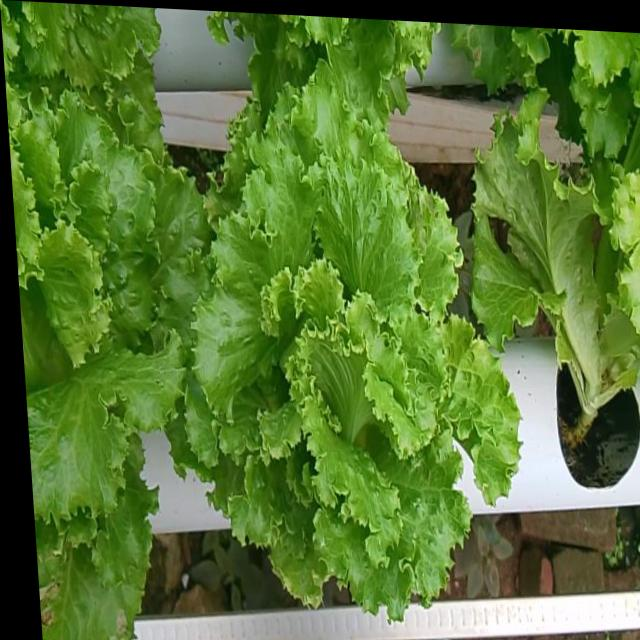Mature: (193, 97, 527, 639), (11, 104, 216, 545)
